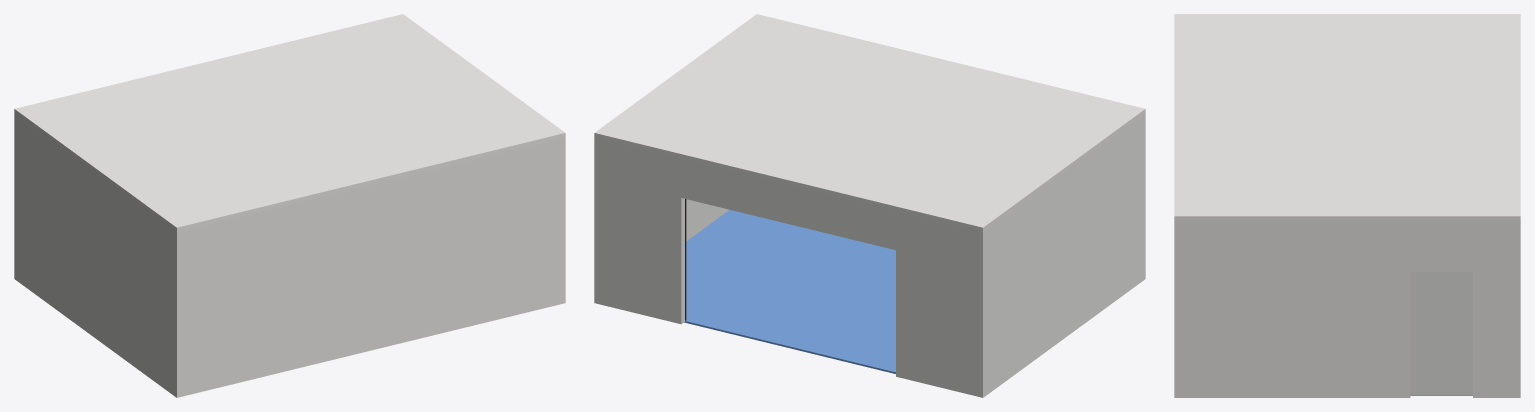
Rendered from Dojang.fbx.
The picture shows the model from 3 angles, left to right: view 1: azimuth 30°, elevation 25°; view 2: azimuth 150°, elevation 25°; view 3: azimuth 270°, elevation 25°; orthographic projection. The views are drawn at different scales.
Visible parts, largest first — view 1: Wall_Back, Ceiling_Coffer, Wall_Left, Wall_Front; view 2: Ceiling_Coffer, Wall_Front, Wall_Left, Floor_Mat, Wall_Right, Wall_Back; view 3: Ceiling_Coffer, Wall_Right, Door_Leaf, Wall_Back, Wall_Front.
Part boxes in pixels (bbox=[...]): Wall_Back: bbox=[173, 137, 565, 397]; Ceiling_Coffer: bbox=[14, 14, 565, 231]; Wall_Left: bbox=[18, 116, 172, 394]; Wall_Front: bbox=[14, 113, 17, 281]; Ceiling_Coffer: bbox=[594, 14, 1145, 231]; Wall_Front: bbox=[594, 137, 986, 397]; Wall_Left: bbox=[987, 116, 1141, 394]; Floor_Mat: bbox=[684, 210, 895, 373]; Wall_Right: bbox=[686, 199, 729, 240]; Wall_Back: bbox=[1142, 113, 1145, 281]; Ceiling_Coffer: bbox=[1174, 14, 1520, 221]; Wall_Right: bbox=[1182, 221, 1512, 397]; Door_Leaf: bbox=[1410, 272, 1472, 395]; Wall_Back: bbox=[1174, 221, 1181, 397]; Wall_Front: bbox=[1513, 221, 1520, 397].
Size of the model in its own units: 7.24 by 3.05 by 5.24.
